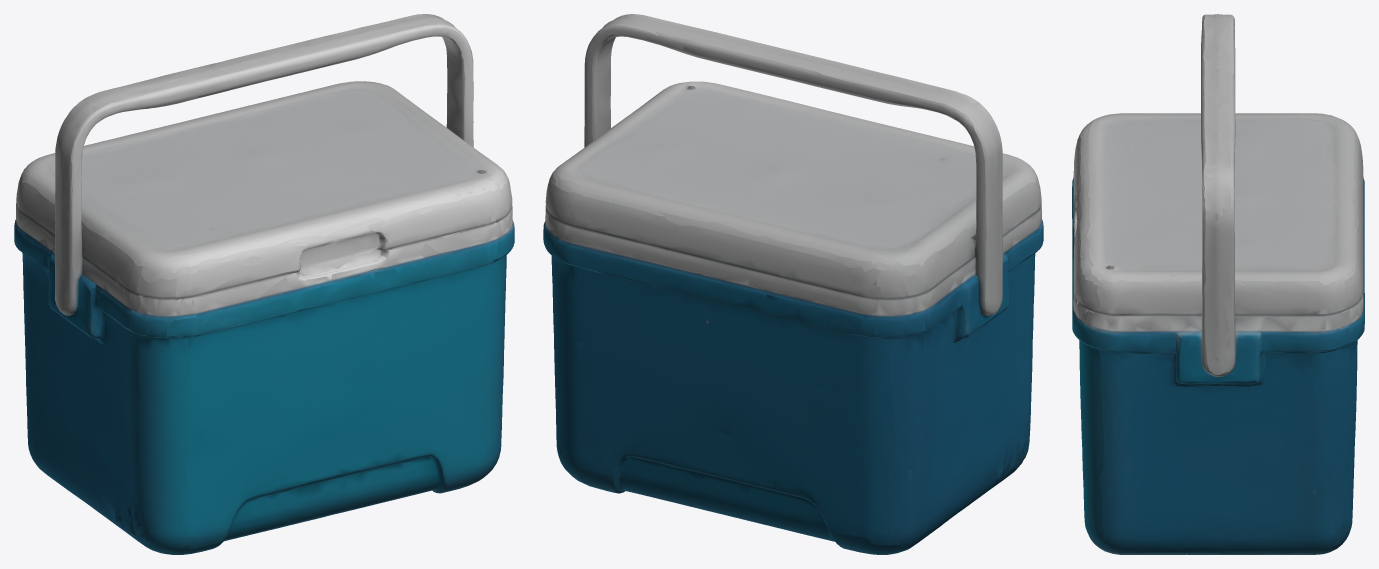
3 renders of one model, left to right at view 1: azimuth 30°, elevation 25°; view 2: azimuth 150°, elevation 25°; view 3: azimuth 270°, elevation 25°, orthographic. The views are drawn at different scales.
Parts seen in each view (by area): view 1: world; view 2: world; view 3: world.
Boxes of the visible parts, <box> form: world: <box>14,14,514,554</box>; world: <box>543,14,1043,554</box>; world: <box>1072,14,1364,554</box>.
Size of the model in its own units: 0.38 by 0.3769 by 0.2514.
Materials: 1 (1 with a texture image).
